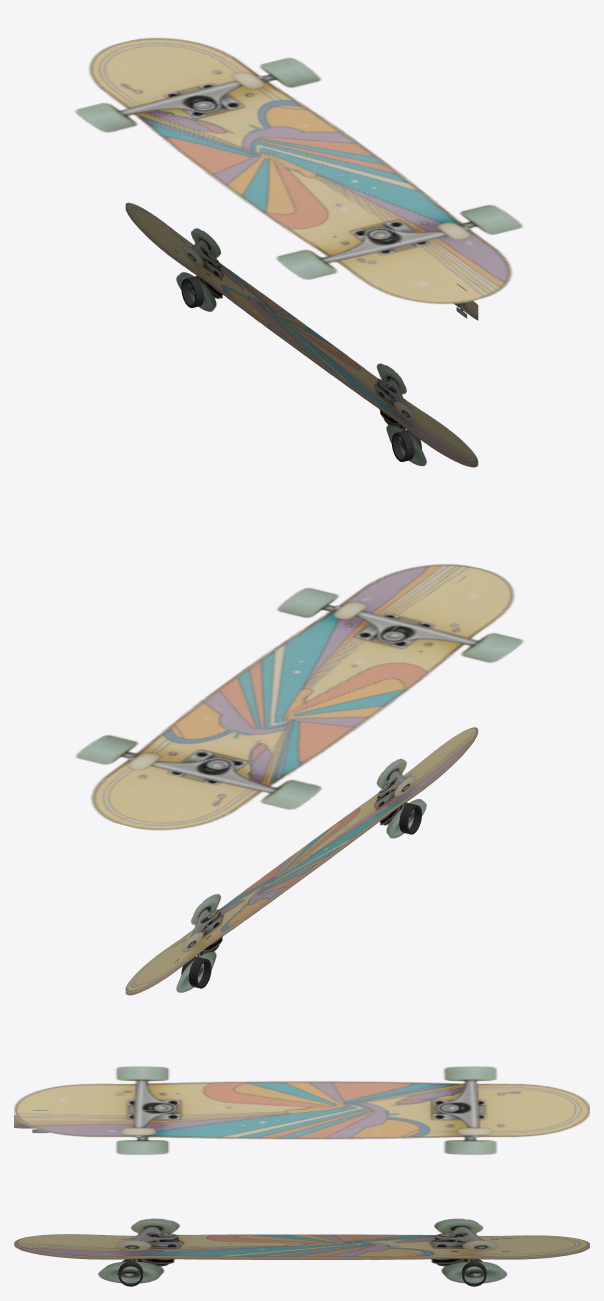
Rendered from skateboard.glb.
3 views of the same model, one above another, from view 1: azimuth 30°, elevation 25°; view 2: azimuth 150°, elevation 25°; view 3: azimuth 270°, elevation 25° (orthographic). The views are drawn at different scales.
Visible parts, largest first — view 1: skateboard, wheel_BC; view 2: skateboard, wheel_FC; view 3: skateboard, wheel_FC, wheel_BC.
Boxes of the visible parts, <box> form: skateboard: <box>74,37,523,467</box>; wheel_BC: <box>391,430,421,461</box>; skateboard: <box>75,564,524,995</box>; wheel_FC: <box>181,956,211,988</box>; skateboard: <box>14,1066,589,1283</box>; wheel_FC: <box>462,1259,486,1286</box>; wheel_BC: <box>118,1259,142,1286</box>.
Size of the model in its own units: 0.292 by 0.2701 by 0.7993.
2 materials, 1 textured.
